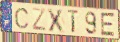9: (84, 11, 98, 36)
C: (14, 7, 30, 30)
E: (100, 11, 116, 37)
T: (67, 9, 80, 35)
X: (46, 8, 67, 34)
Z: (32, 7, 48, 32)
